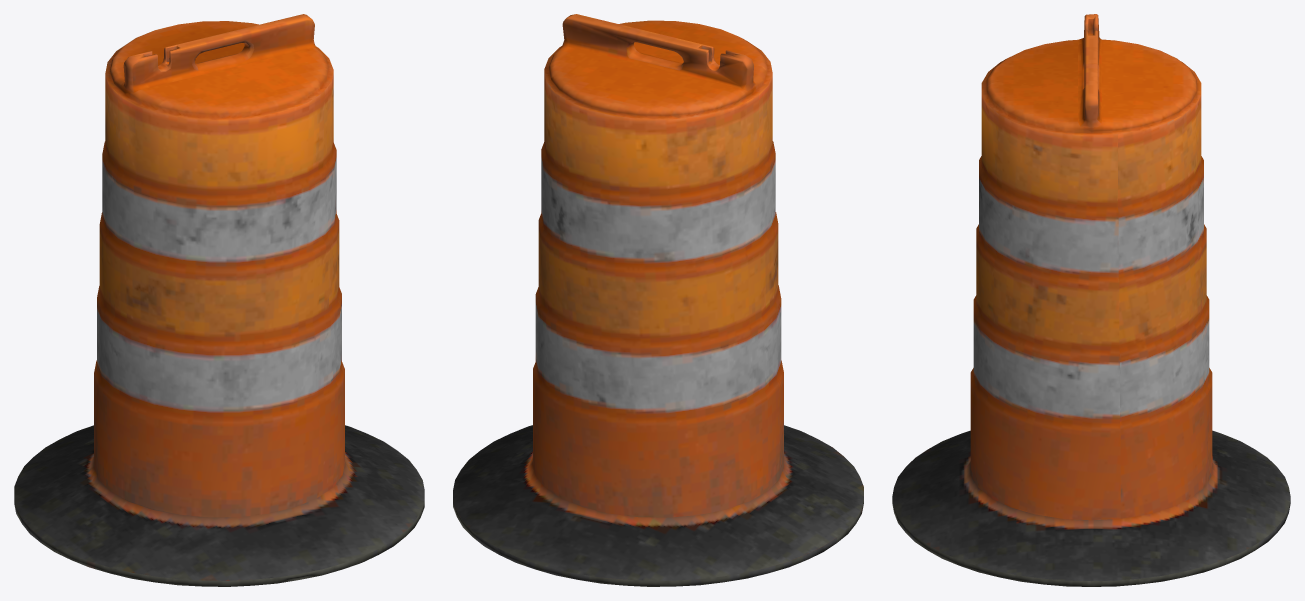
File: constructionPylons.fbx
3 views of the same model, side by side, from view 1: azimuth 30°, elevation 25°; view 2: azimuth 150°, elevation 25°; view 3: azimuth 270°, elevation 25° (orthographic). The views are drawn at different scales.
Parts seen in each view (by area): view 1: ConstructionPylons; view 2: ConstructionPylons; view 3: ConstructionPylons.
Boxes of the visible parts, x1,y1,x2,y2 form: ConstructionPylons: [14, 14, 424, 586]; ConstructionPylons: [453, 14, 863, 586]; ConstructionPylons: [892, 14, 1290, 586].
Size of the model in its own units: 101 by 126 by 102.
